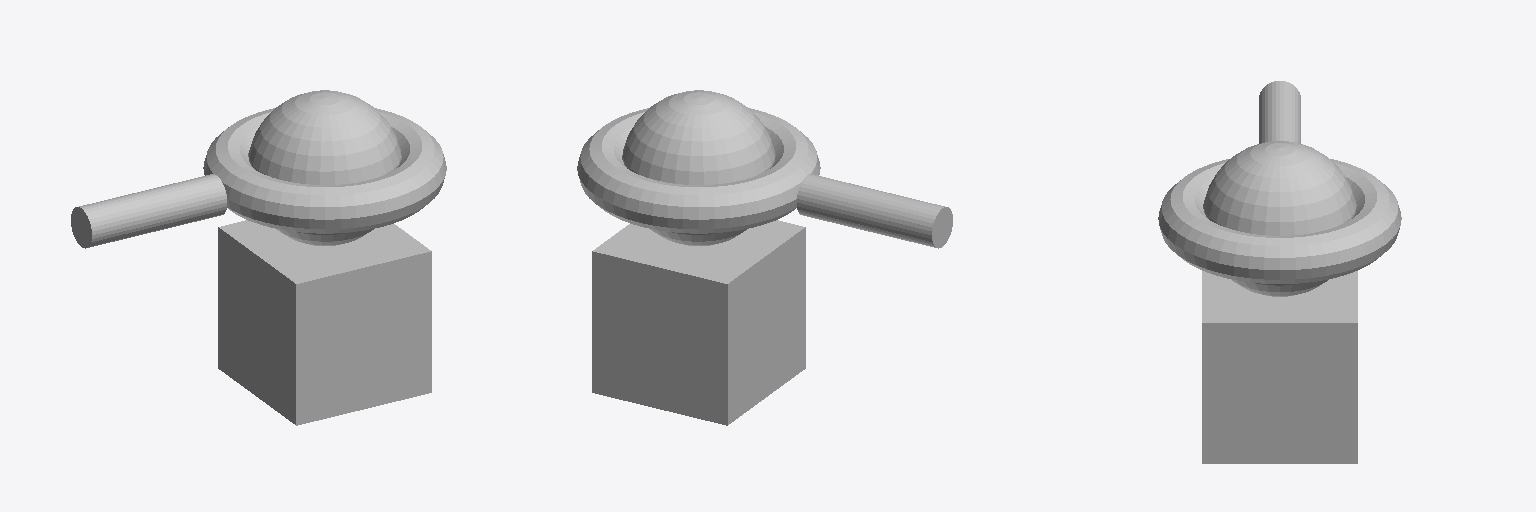
File: parenting_test.obj
3 views of the same model, side by side, from view 1: azimuth 30°, elevation 25°; view 2: azimuth 150°, elevation 25°; view 3: azimuth 270°, elevation 25° (orthographic).
Visible parts, largest first — view 1: Cube, Torus, Sphere, Cylinder; view 2: Cube, Torus, Sphere, Cylinder; view 3: Cube, Torus, Sphere, Cylinder.
Part boxes in pixels (bbox=[...]): Cube: bbox=[218, 220, 431, 425]; Torus: bbox=[203, 108, 446, 233]; Sphere: bbox=[248, 90, 401, 245]; Cylinder: bbox=[71, 174, 226, 248]; Cube: bbox=[592, 220, 805, 425]; Torus: bbox=[577, 108, 820, 233]; Sphere: bbox=[622, 90, 775, 245]; Cylinder: bbox=[797, 174, 952, 248]; Cube: bbox=[1202, 271, 1357, 463]; Torus: bbox=[1158, 159, 1401, 283]; Sphere: bbox=[1203, 141, 1356, 296]; Cylinder: bbox=[1259, 81, 1300, 143].
Bounding box in the file's own units: 5.16 × 4 × 3.12.